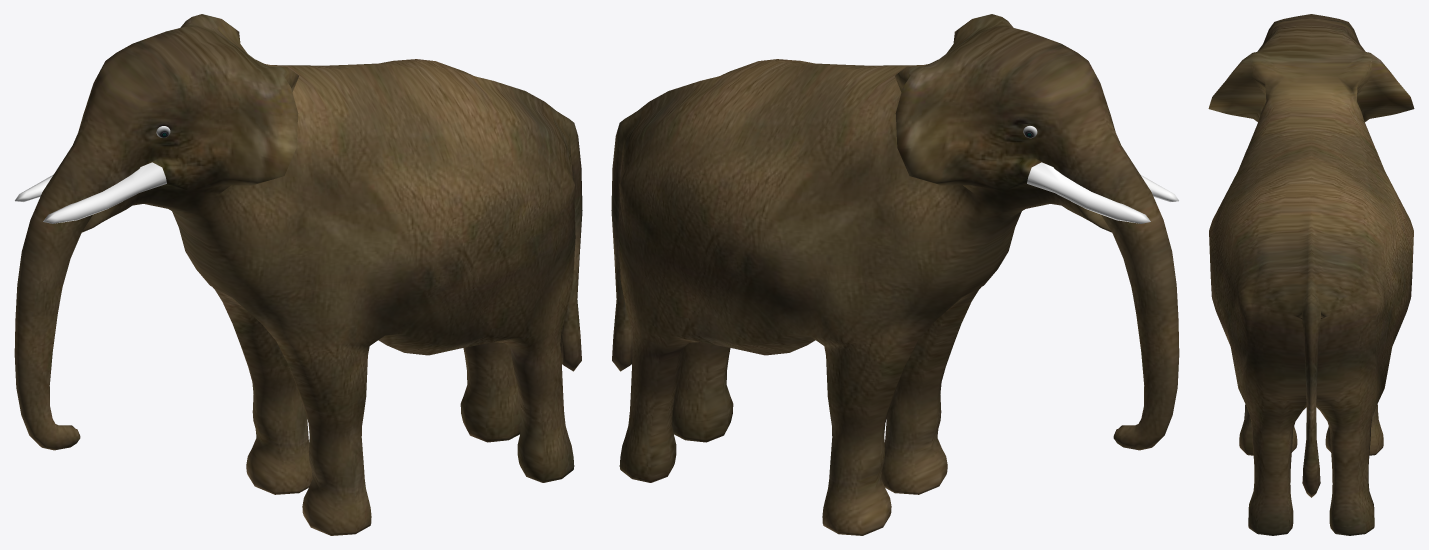
The model's file is ele1.obj.
3 views of the same model, side by side, from view 1: azimuth 30°, elevation 25°; view 2: azimuth 150°, elevation 25°; view 3: azimuth 270°, elevation 25° (orthographic). The views are drawn at different scales.
Parts seen in each view (by area): view 1: elephent; view 2: elephent; view 3: elephent.
Part boxes in pixels (x1=…): elephent: x1=14, y1=14, x2=582, y2=535; elephent: x1=611, y1=14, x2=1179, y2=535; elephent: x1=1208, y1=14, x2=1414, y2=535.
Size of the model in its own units: 254 by 210 by 104.
3 materials, 2 textured.
